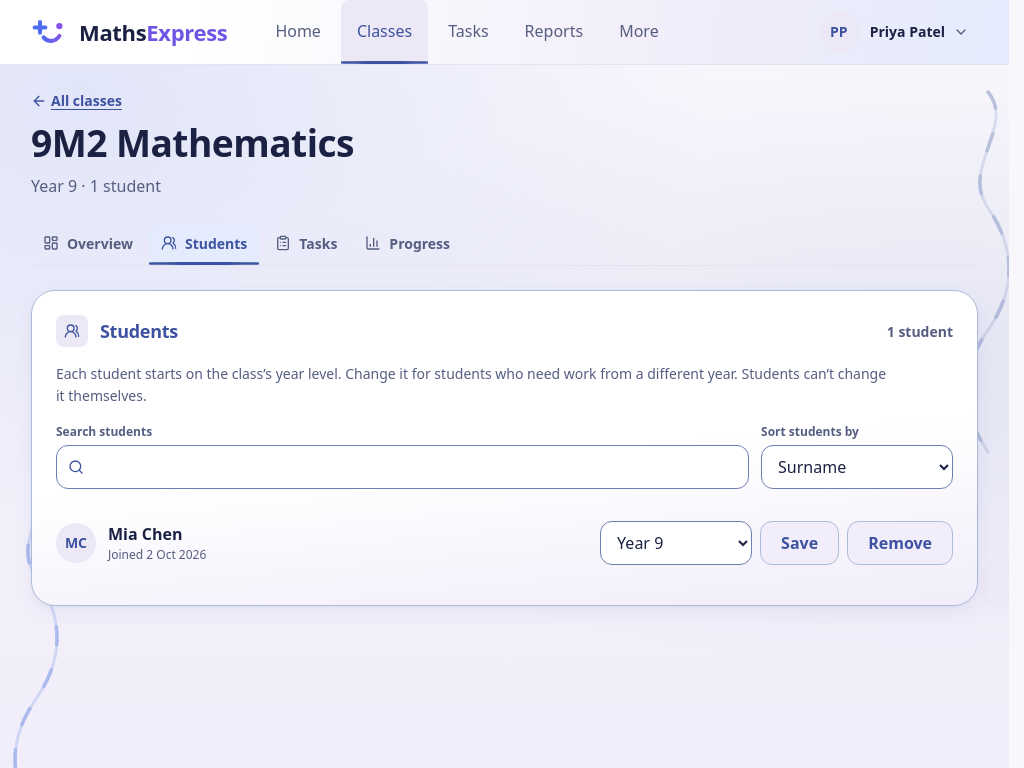
it: teacher class page › changes a student’s year level
This screenshot has width=1024, height=768.
Select "Year 10" in the dropdown named "Mia Chen’s year level". click: (676, 543)
box: top-left (600, 521), bottom-right (752, 565)
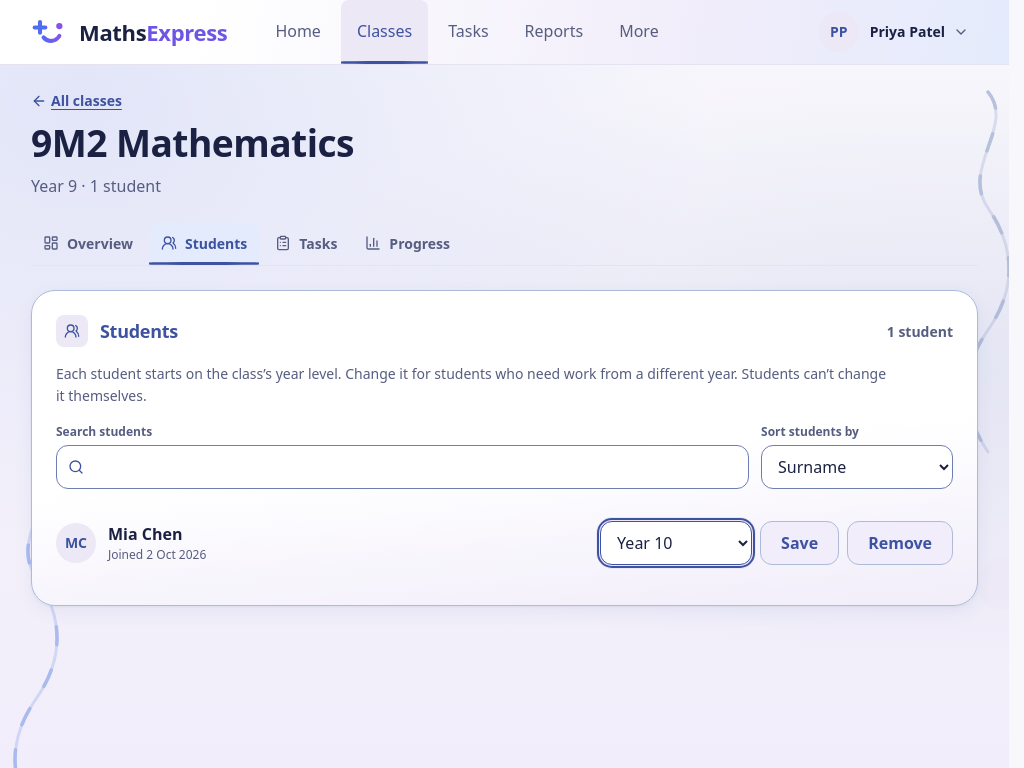
Click the button named "Save Mia Chen’s year level". click: (800, 543)
box: top-left (760, 521), bottom-right (839, 565)
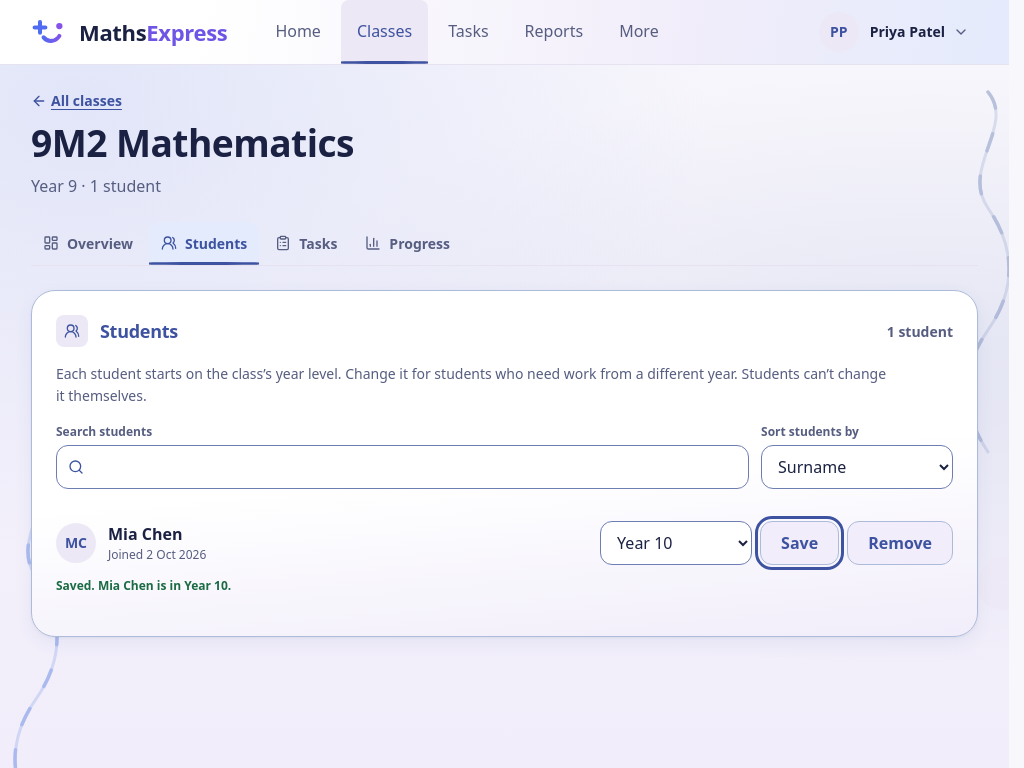
Check: the text "Saved. Mia Chen is in Year 10." is shown, box top-left (56, 577), bottom-right (231, 594)
